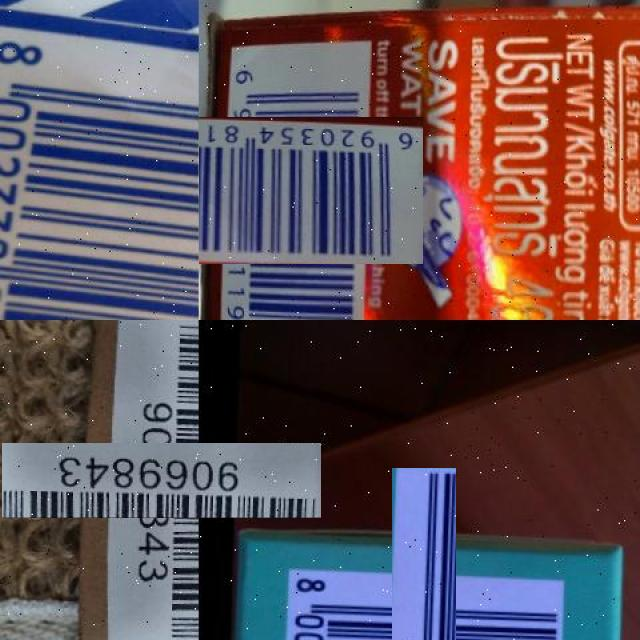Barcode: (0, 8, 199, 320), (192, 88, 395, 292), (63, 381, 260, 579), (338, 522, 510, 640)
